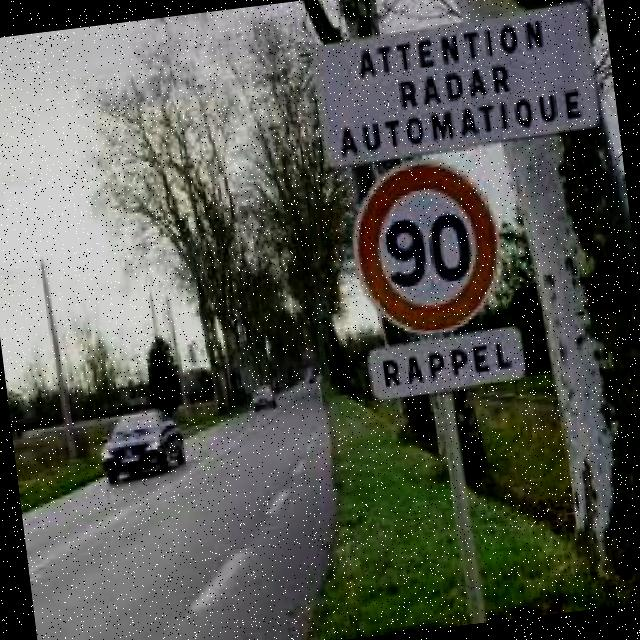Ograniczenie predkosci do 90: (352, 154, 504, 338)
